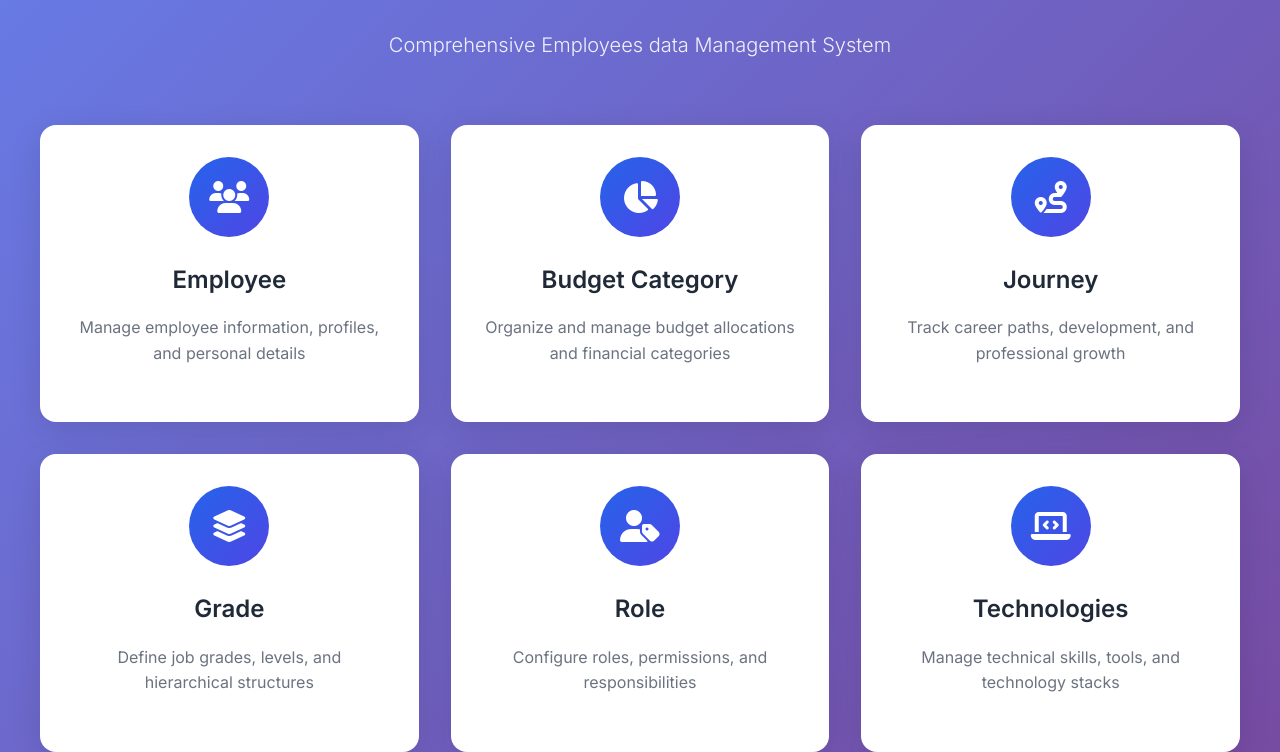
Test: Master Portal - Technologies Management › should navigate to Technologies Management
The width and height of the screenshot is (1280, 752).
(page scrolled)
Click the text "Technologies" at point(1051, 603), box [861, 454, 1240, 751]
(page scrolled)
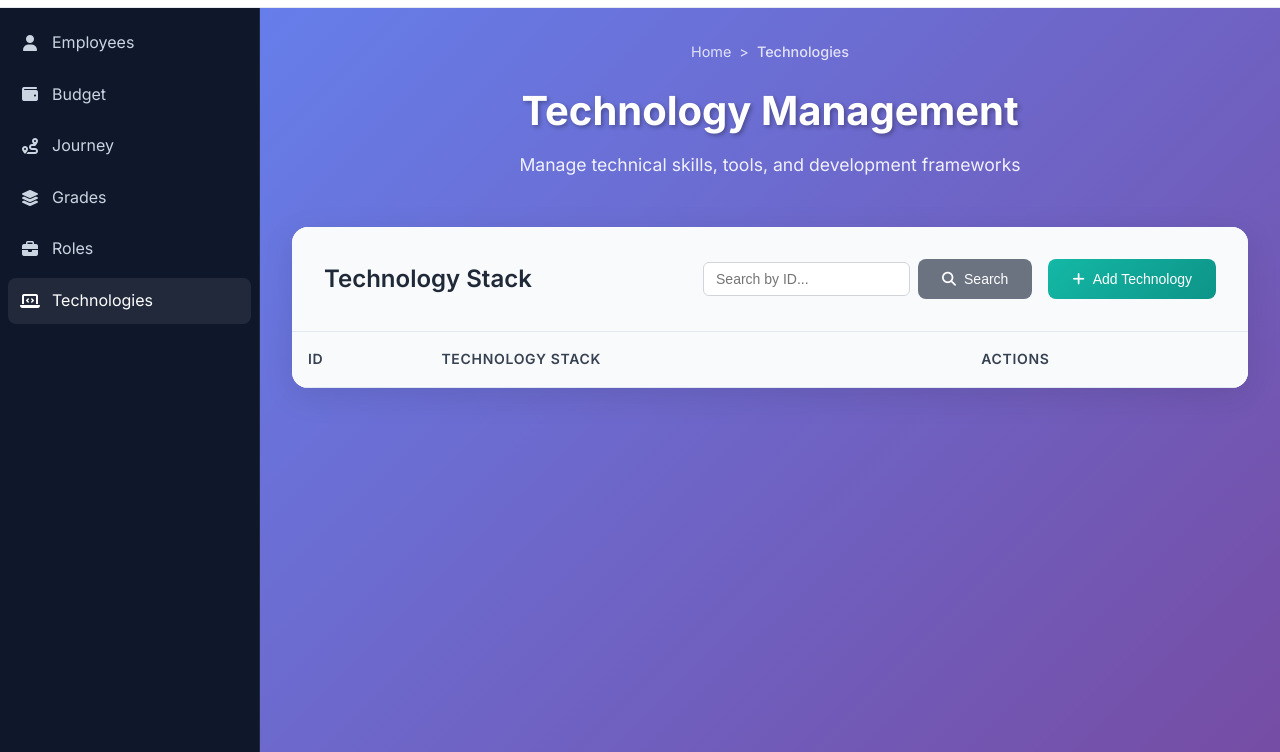
Result: the heading "Technology Management" is shown at [522, 86, 1019, 135]
